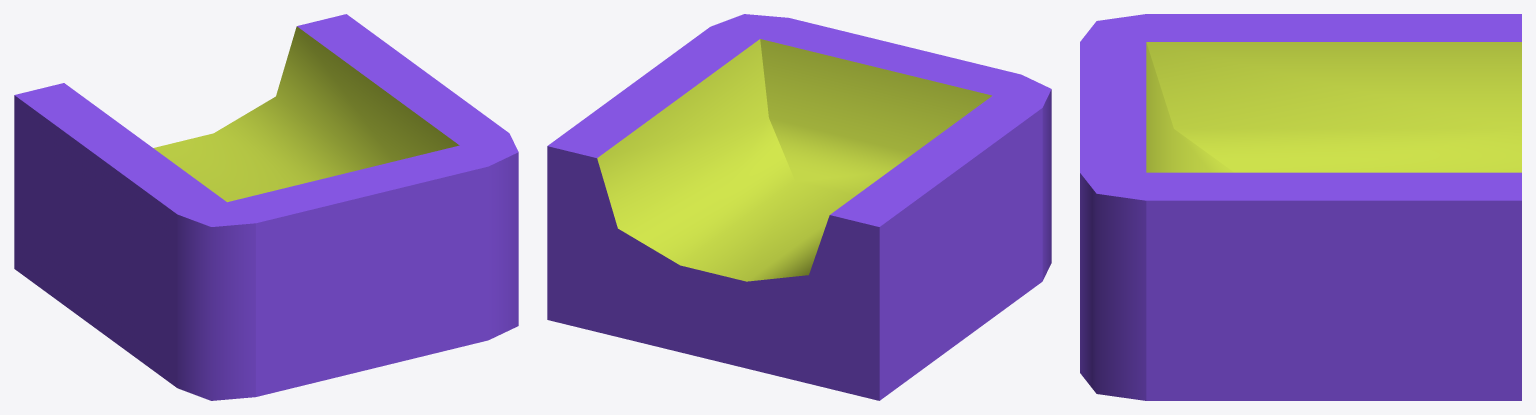
Rendered from end_rounded.fbx.
3 renders of one model, left to right at view 1: azimuth 30°, elevation 25°; view 2: azimuth 150°, elevation 25°; view 3: azimuth 270°, elevation 25°, orthographic. The views are drawn at different scales.
Visible parts, largest first — view 1: end_rounded; view 2: end_rounded; view 3: end_rounded.
Part boxes in pixels (x1,y1,x2,y2): end_rounded: (14, 14, 518, 400); end_rounded: (547, 14, 1051, 400); end_rounded: (1080, 14, 1521, 400).
Size of the model in its own units: 10 by 5 by 10.
